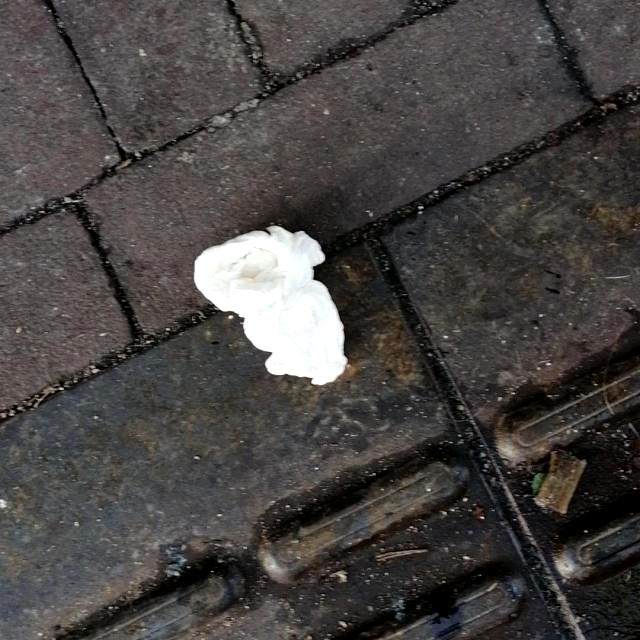Paper: (192, 224, 350, 388)
